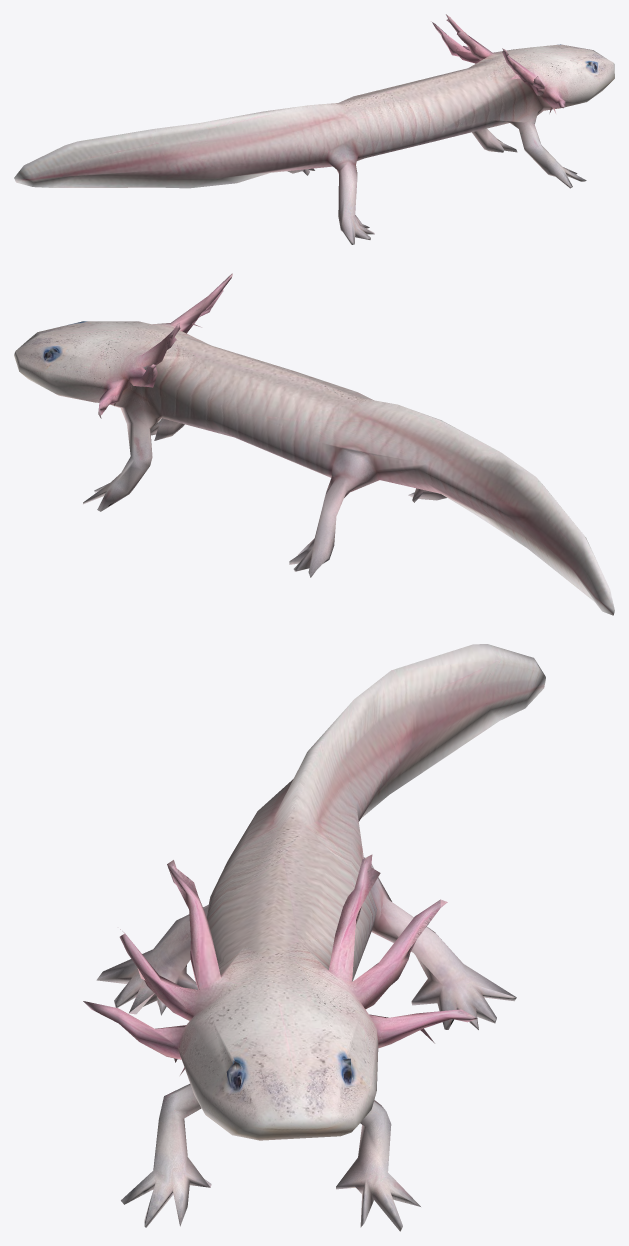
Rendered from ajolote.fbx.
3 renders of one model, top to bottom at view 1: azimuth 30°, elevation 25°; view 2: azimuth 150°, elevation 25°; view 3: azimuth 270°, elevation 25°, orthographic. The views are drawn at different scales.
Visible parts, largest first — view 1: ajolote; view 2: ajolote; view 3: ajolote.
Part boxes in pixels (left/top/right/bottom): ajolote: left=14, top=14, right=614, bottom=244; ajolote: left=14, top=273, right=614, bottom=615; ajolote: left=83, top=644, right=545, bottom=1231.
Size of the model in its own units: 0.4 by 0.1123 by 0.1513.
1 material, 1 textured.
